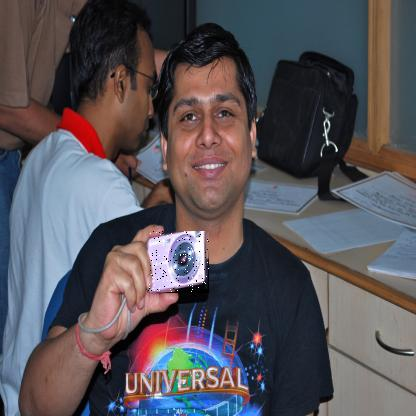Camera: (148, 232, 211, 295)
